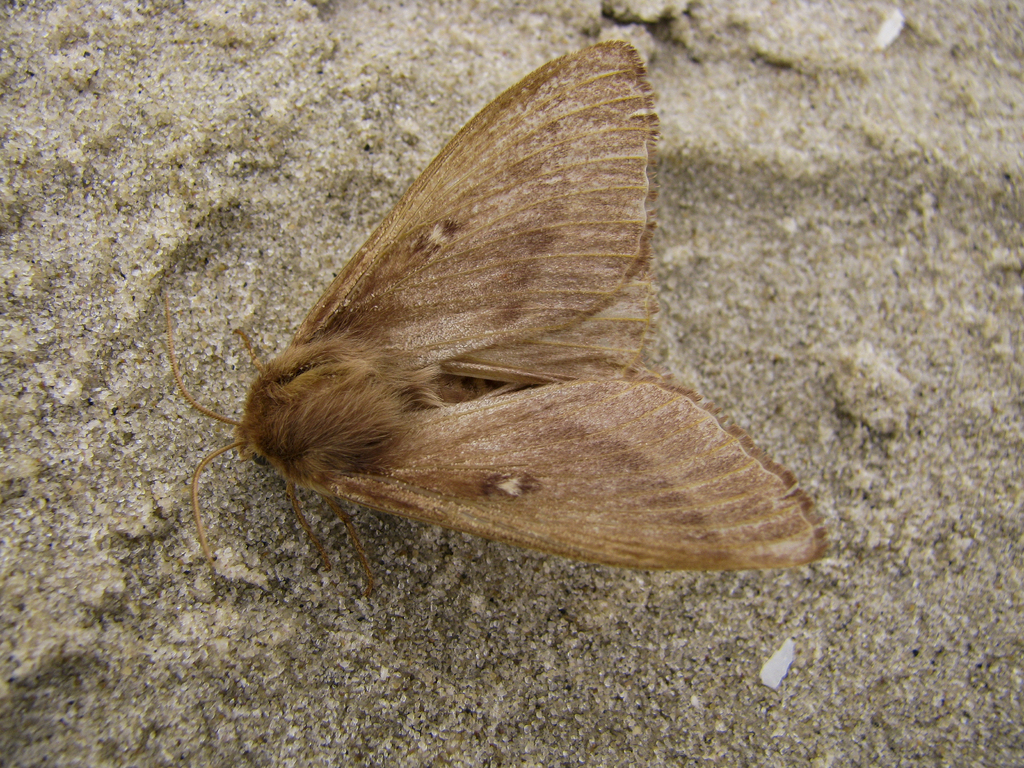Butterfly: (190, 24, 839, 607)
